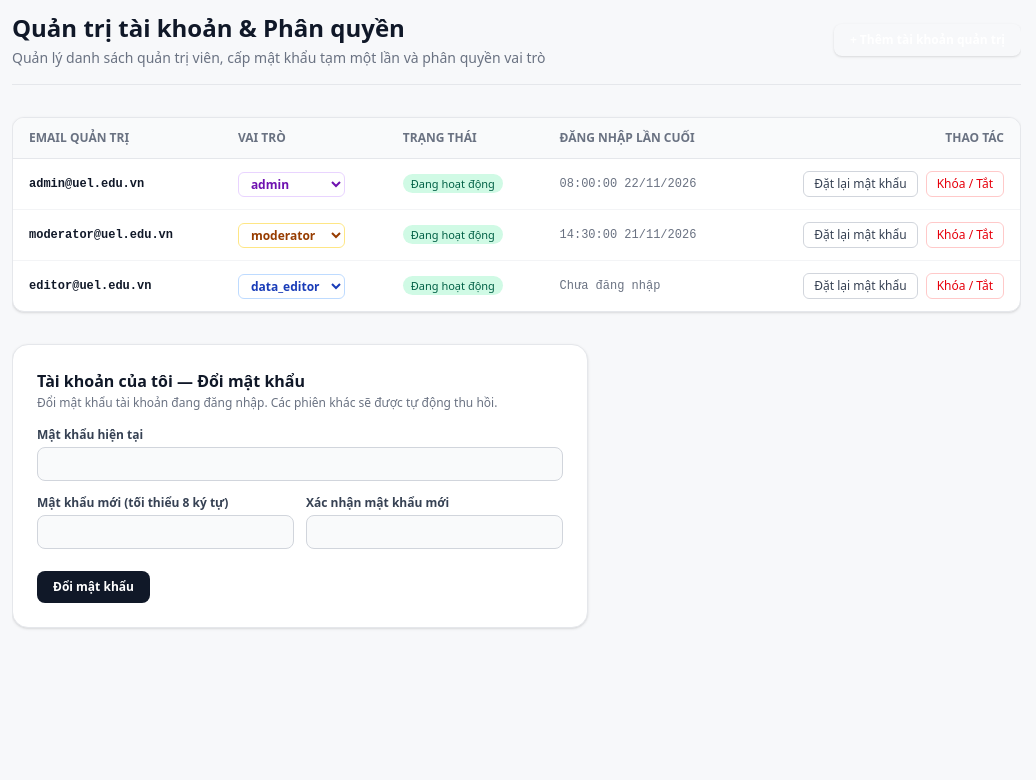
Test: Brief A6: Hệ thống, Nhật ký, Tài khoản & Cài đặt quản trị › 3. Trang Tài khoản quản trị & Phân quyền (/admin/users) › khối đổi mật khẩu của tôi báo lỗi nếu mật khẩu xác nhận không khớp
Expected: the text "admin@uel.edu.vn" is shown, [13, 158, 222, 210]
Type "oldpass123" into the password field labelled "Mật khẩu hiện tại" at (300, 464), box [37, 447, 563, 481]
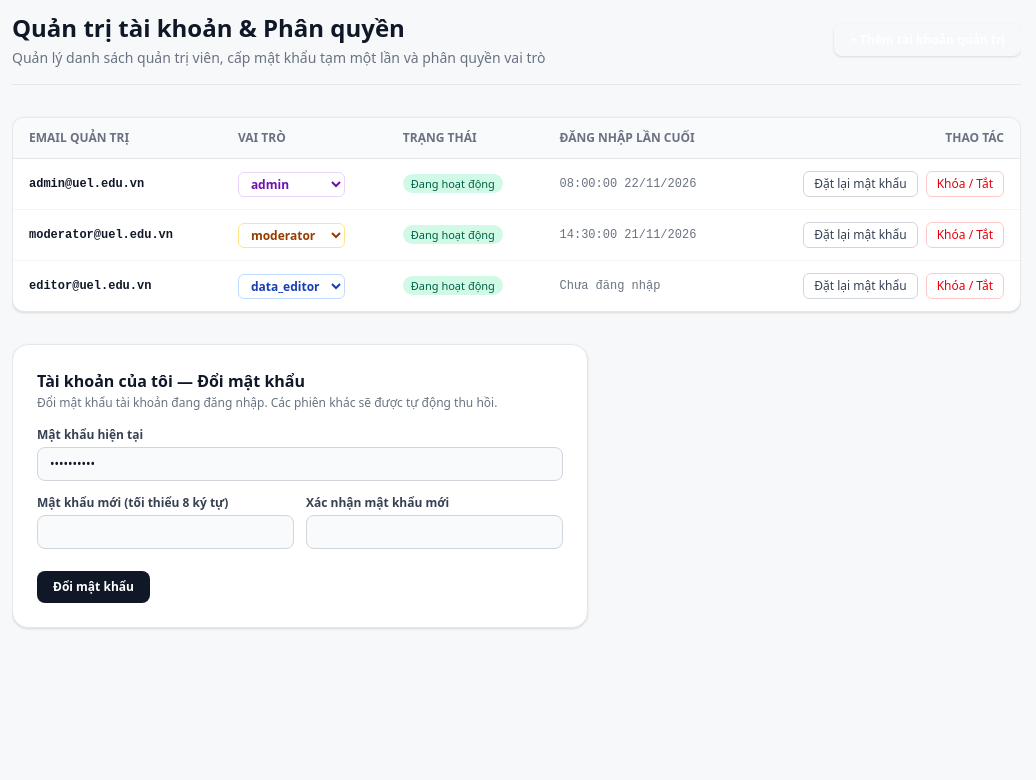
Type "newsecret456!" into the password field labelled "Mật khẩu mới (tối thiểu 8 ký tự)" at (166, 532), box [37, 515, 294, 549]
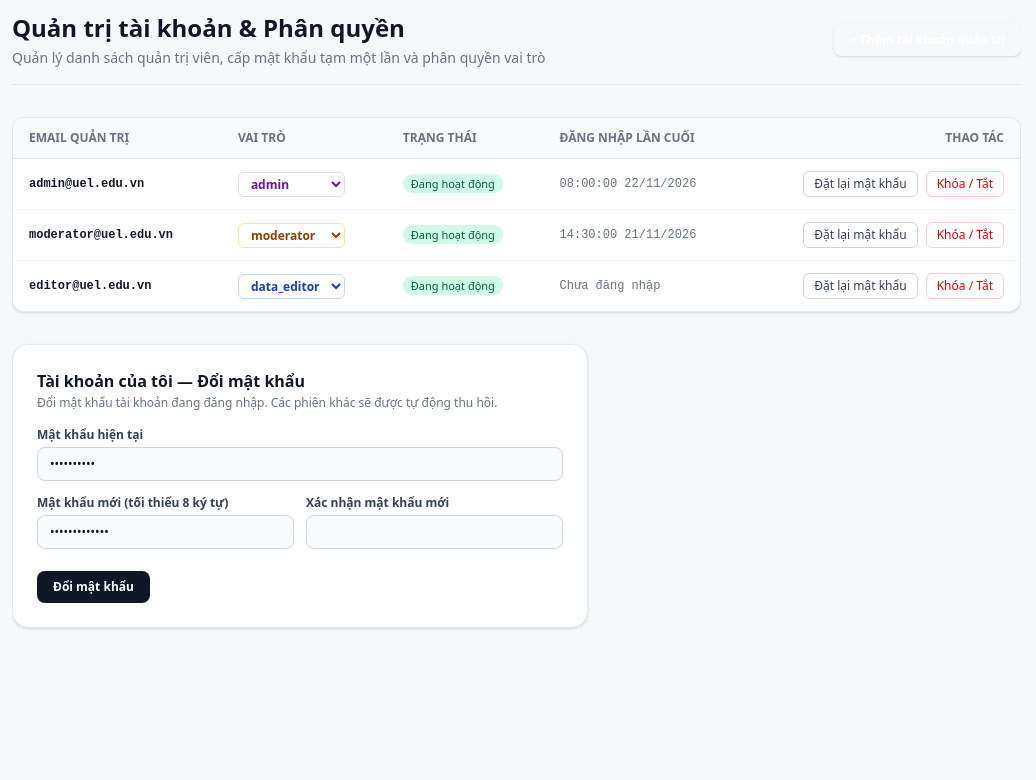
Type "mismatchsecret789!" into the password field labelled "Xác nhận mật khẩu mới" at (434, 532), box [306, 515, 563, 549]
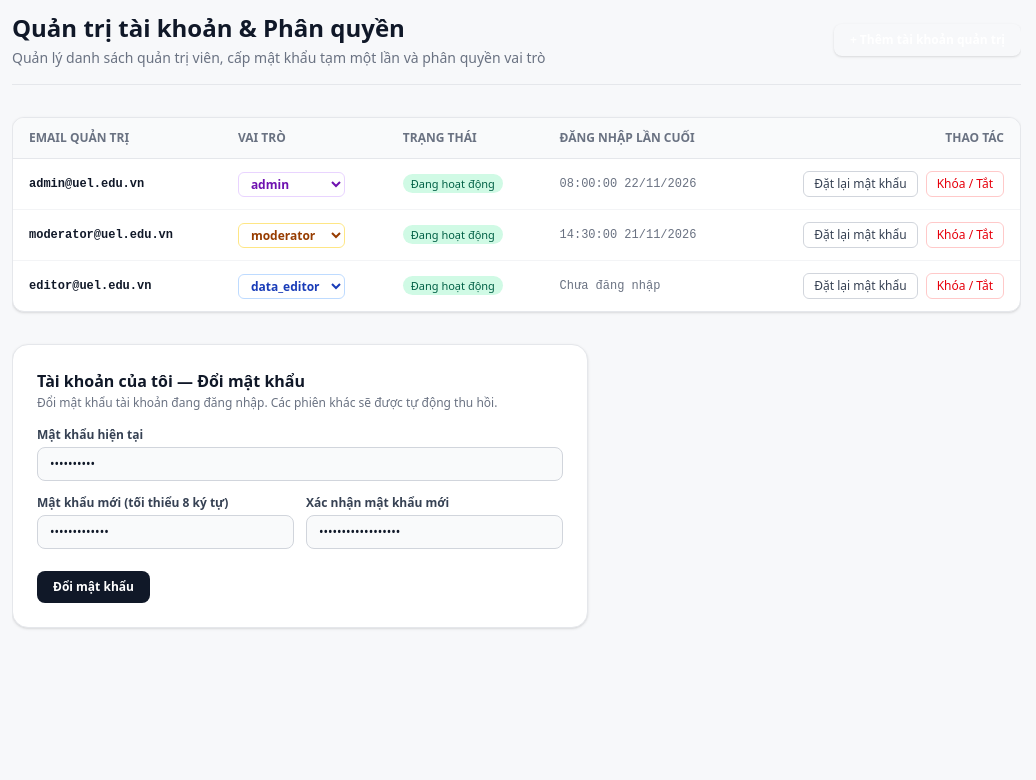
Click the button "Đổi mật khẩu" at (93, 587), box [37, 571, 150, 603]
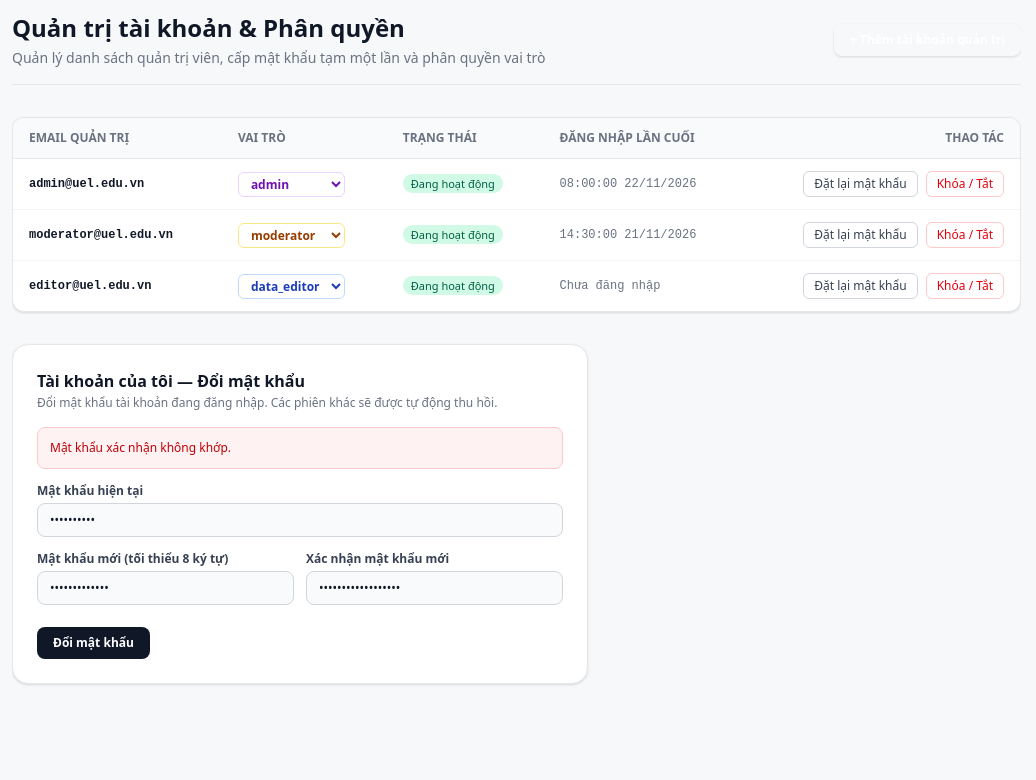
Expected: the message shows "không khớp", [50, 439, 231, 456]
